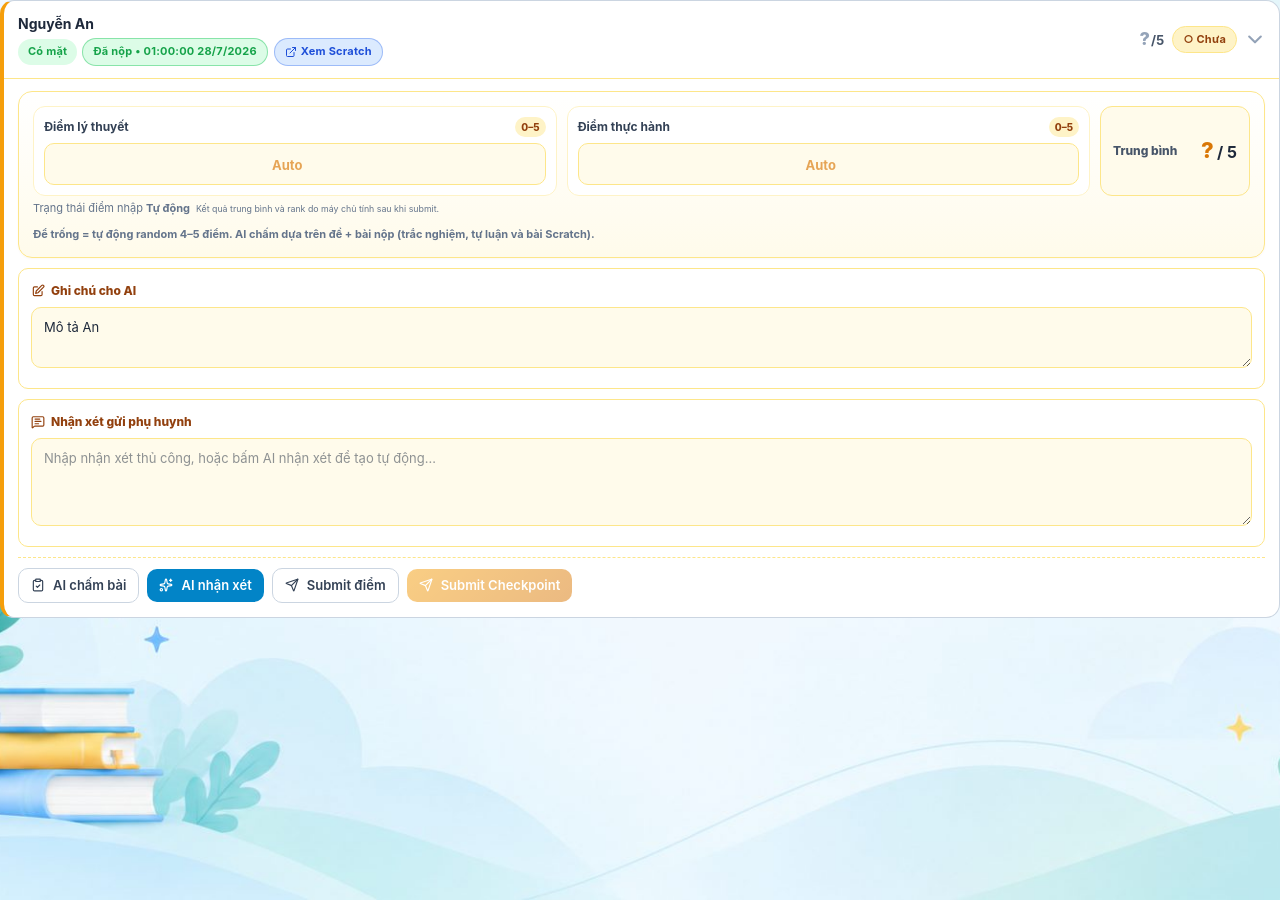
Test: Checkpoint student and batch UI › grades a submitted checkpoint exam into theory/practice fields including Scratch
Click the button "AI chấm bài" at [79, 585], box [18,568,139,602]
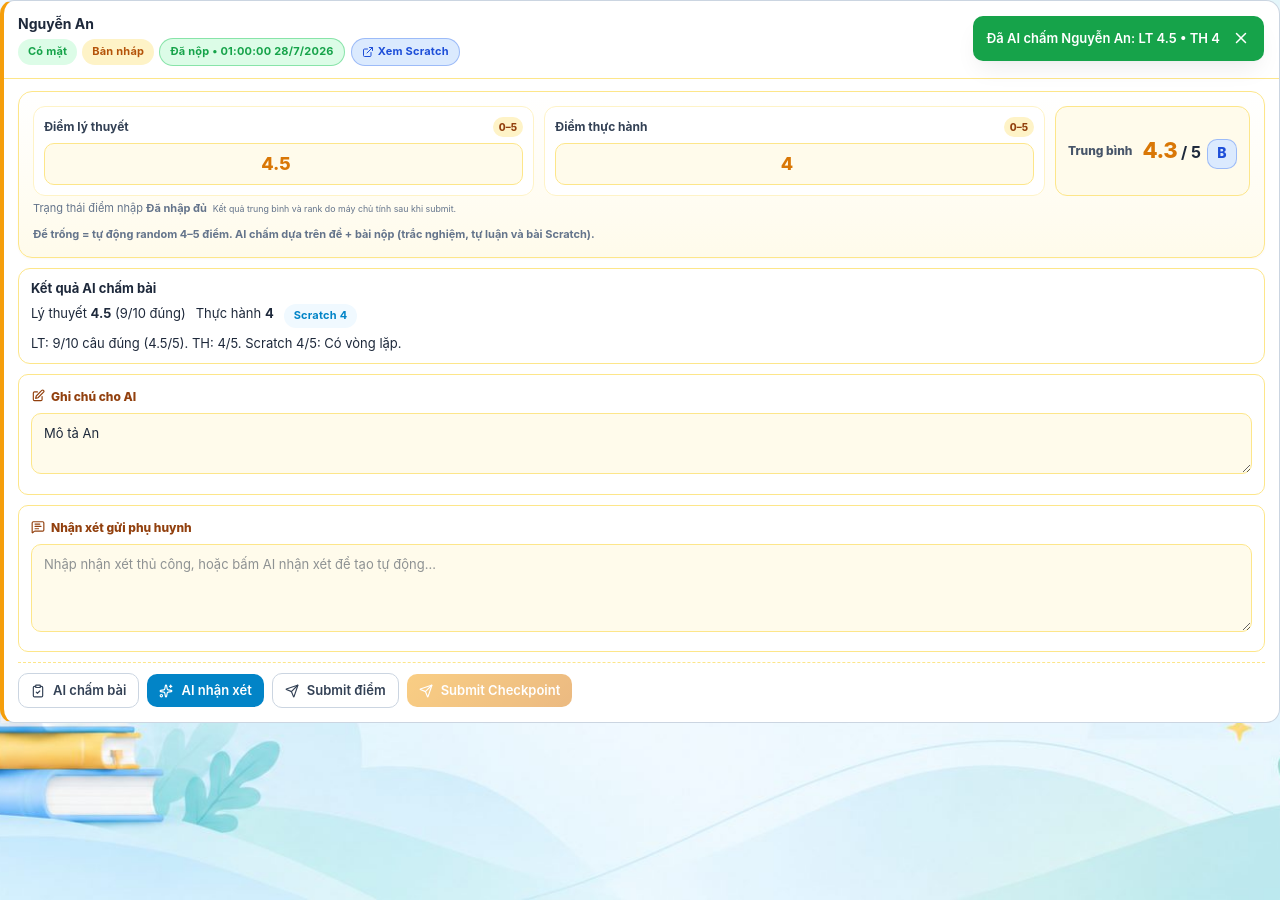
Expected: the element named "Kết quả AI chấm của Nguyễn An" shows "9/10 đúng", [111,305,186,321]
Expected: the number field named "Điểm lý thuyết Checkpoint của Nguyễn An" holds "4.5", [44,143,523,185]
Expected: the number field named "Điểm thực hành Checkpoint của Nguyễn An" holds "4", [555,143,1034,185]
